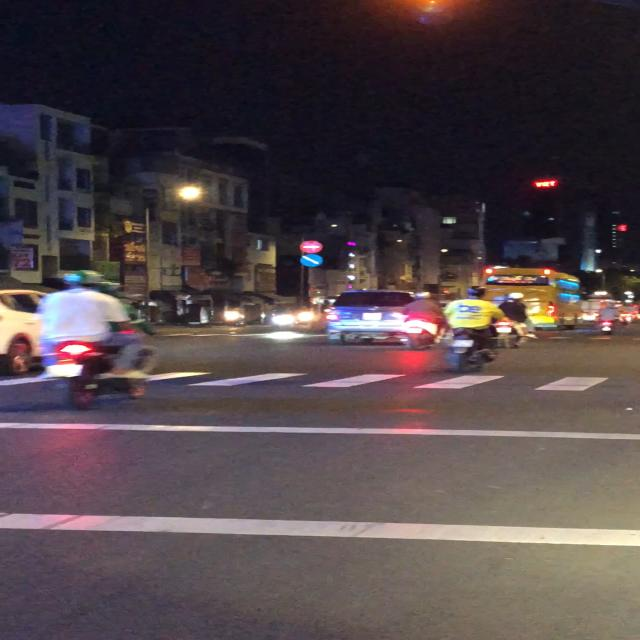Bien bao cam di nguoc chieu: (299, 240, 325, 253)
Bien bao huong phai di vong chuong ngai vat: (299, 253, 324, 268)
